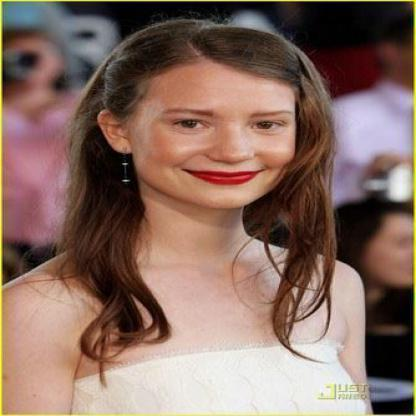long-hair: (45, 207, 352, 281)
